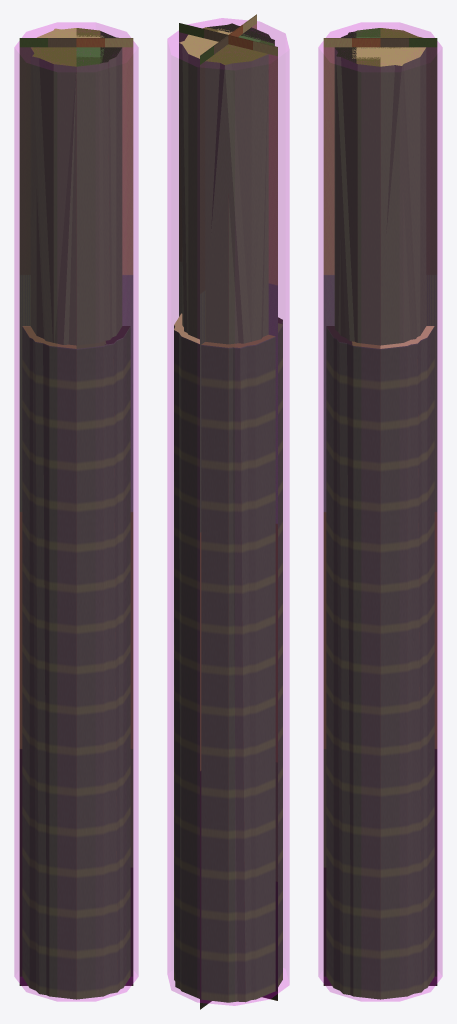
File: saguaro_tall.dae
3 renders of one model, left to right at view 1: azimuth 90°, elevation 25°; view 2: azimuth 150°, elevation 25°; view 3: azimuth 270°, elevation 25°, orthographic.
Visible parts, largest first — view 1: Colmesh_trunk-1, saguaro_tall_a800, saguaro_tall_a200, saguaro_tall_a50; view 2: Colmesh_trunk-1, saguaro_tall_a800, saguaro_tall_a200, saguaro_tall_a50; view 3: Colmesh_trunk-1, saguaro_tall_a800, saguaro_tall_a200, saguaro_tall_a50.
Boxes of the visible parts, x1,y1,x2,y2 form: Colmesh_trunk-1: (14, 22, 138, 1001); saguaro_tall_a800: (22, 28, 130, 999); saguaro_tall_a200: (24, 28, 129, 994); saguaro_tall_a50: (19, 38, 133, 985); Colmesh_trunk-1: (167, 18, 289, 1005); saguaro_tall_a800: (174, 24, 282, 1002); saguaro_tall_a200: (174, 23, 282, 1002); saguaro_tall_a50: (179, 14, 277, 1009); Colmesh_trunk-1: (318, 22, 442, 1001); saguaro_tall_a800: (326, 28, 434, 999); saguaro_tall_a200: (328, 28, 432, 994); saguaro_tall_a50: (323, 38, 437, 985).
Size of the model in its own units: 0.6344 by 0.667 by 5.61.
2 materials, 1 textured.
